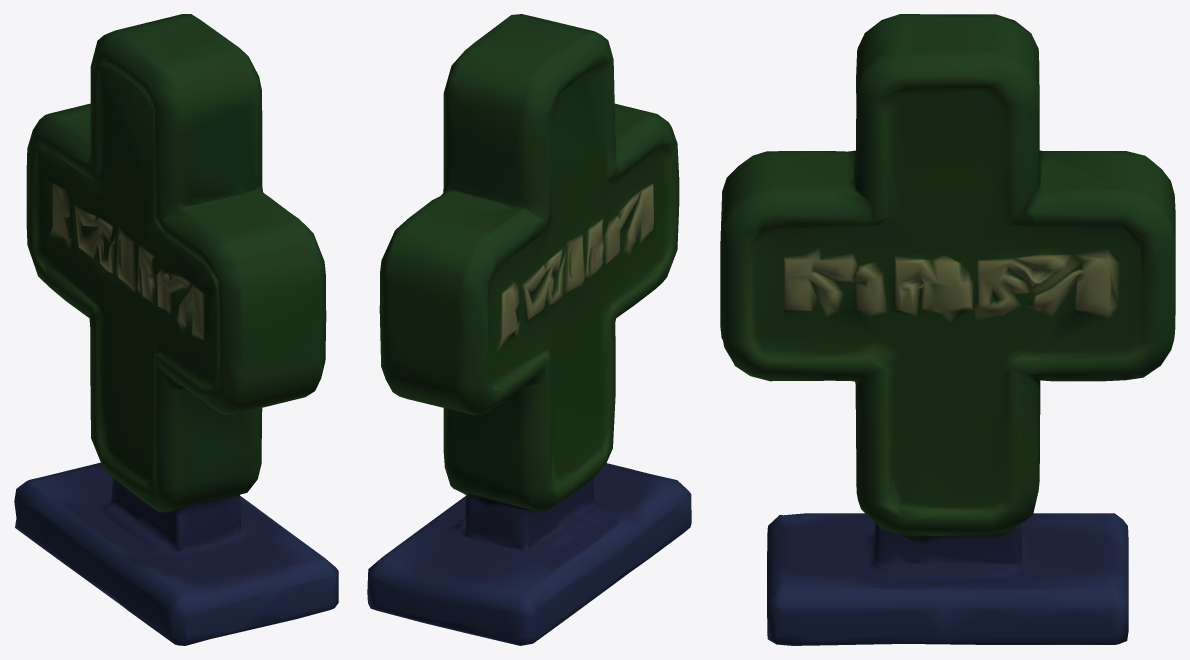
Rendered from gen3d-pharmacy-sign-lod0.glb.
3 renders of one model, left to right at view 1: azimuth 30°, elevation 25°; view 2: azimuth 150°, elevation 25°; view 3: azimuth 270°, elevation 25°, orthographic. The views are drawn at different scales.
Parts seen in each view (by area): view 1: part_0; view 2: part_0; view 3: part_0.
Part boxes in pixels (x1,y1,x2,y2): part_0: (14, 14, 338, 645); part_0: (367, 14, 691, 645); part_0: (720, 14, 1175, 645).
Size of the model in its own units: 0.3289 by 0.9999 by 0.7226.
